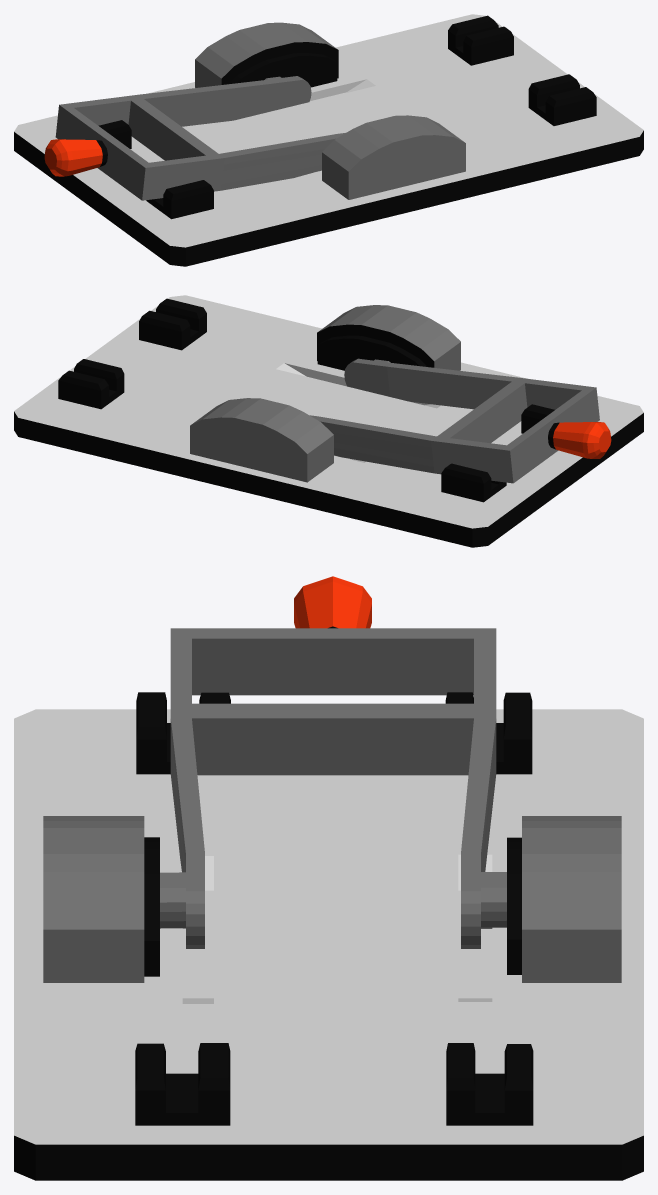
The model's file is cyberLightSwitchOFF.fbx.
3 views of the same model, one above another, from view 1: azimuth 30°, elevation 25°; view 2: azimuth 150°, elevation 25°; view 3: azimuth 270°, elevation 25° (orthographic). The views are drawn at different scales.
Visible parts, largest first — view 1: base, Cube; view 2: base, Cube; view 3: base, Cube.
Part boxes in pixels (bbox=[...]): base: bbox=[14, 14, 643, 266]; Cube: bbox=[44, 76, 345, 200]; base: bbox=[14, 295, 643, 547]; Cube: bbox=[310, 358, 611, 483]; base: bbox=[14, 692, 643, 1180]; Cube: bbox=[160, 576, 506, 948].
Bounding box in the file's own units: 65.21 × 9.03 × 36.7.
